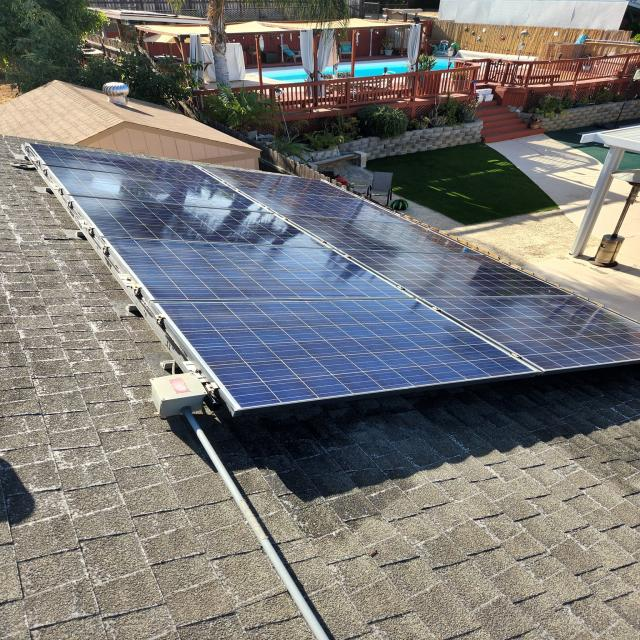clean-solar-panel: (23, 142, 638, 414)
